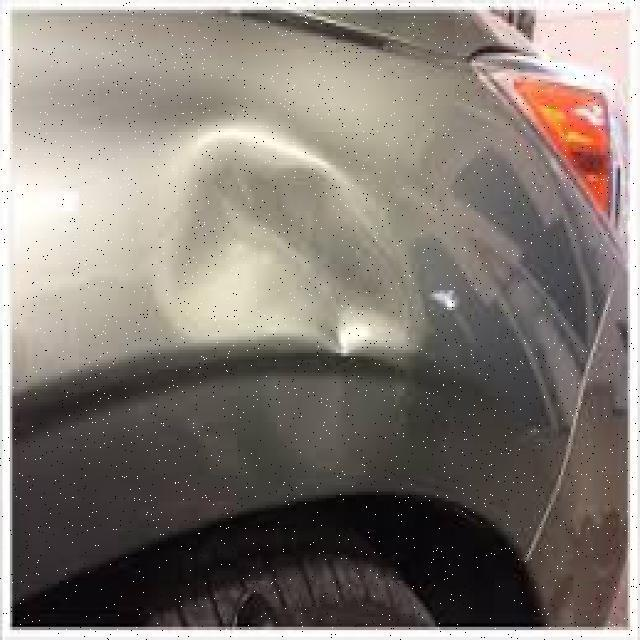fender-dent: (15, 13, 539, 597)
